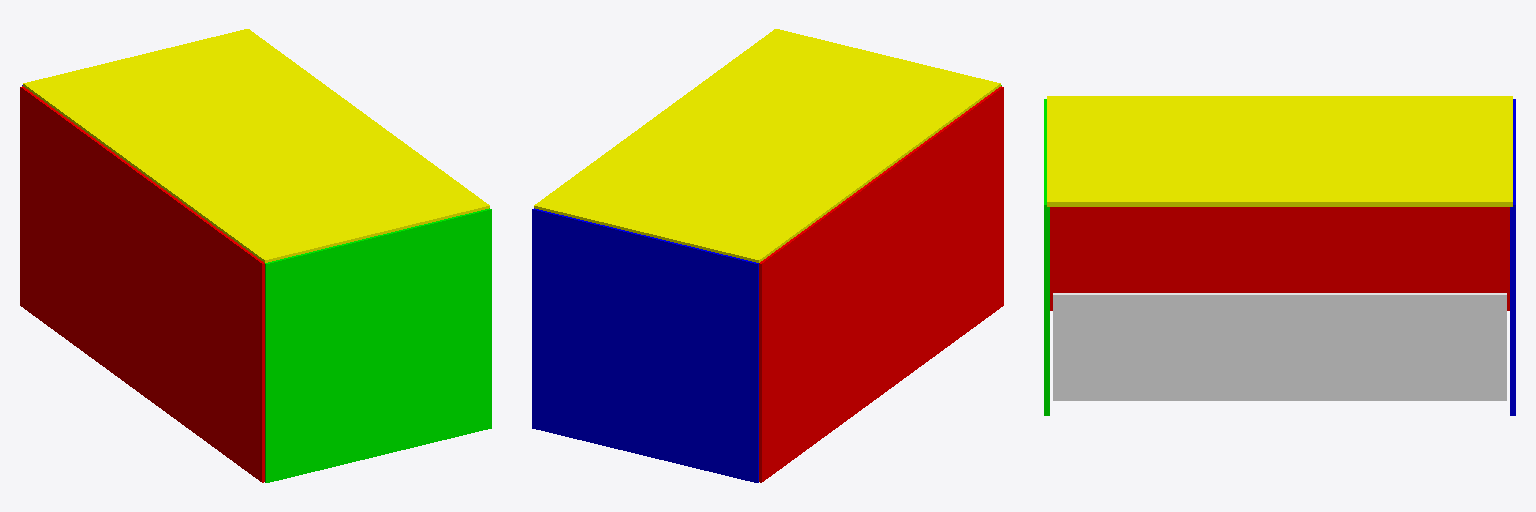
The robot description file, URDF, robot "goal":
<?xml version="1.0" ?>
<robot name="goal">
  <link name="base_link"/>
  <link name="board1">
    <visual>
      <geometry>
        <box size="0.43 0.8 0.01"/>
      </geometry>
      <material name="board_color1">
        <color rgba="1 1 0 1"/>
      </material>
    </visual>
    <collision>
      <geometry>
        <box size="0.43 0.8 0.01"/>
      </geometry>
    </collision>
    <inertial>
      <mass value="1.0"/>
      <origin xyz="0 0 0"/>
      <inertia ixx="0.1" ixy="0.0" ixz="0.0" iyy="0.1" iyz="0.0" izz="0.1"/>
    </inertial>
  </link>
  
  <link name="board2">
    <visual>
      <geometry>
        <box size="0.43 0.01 0.4"/>
      </geometry>
      <material name="board_color2">
        <color rgba="0 0 1 1"/>
      </material>
    </visual>
    <collision>
      <geometry>
        <box size="0.43 0.01 0.4"/>
      </geometry>
    </collision>
    <inertial>
      <mass value="1.0"/>
      <origin xyz="0 0 0"/>
      <inertia ixx="0.1" ixy="0.0" ixz="0.0" iyy="0.1" iyz="0.0" izz="0.1"/>
    </inertial>
  </link>
  
  <link name="board3">
    <visual>
      <geometry>
        <box size="0.43 0.01 0.4"/>
      </geometry>
      <material name="board_color3">
        <color rgba="0 1 0 1"/>
      </material>
    </visual>
    <collision>
      <geometry>
        <box size="0.43 0.01 0.4"/>
      </geometry>
    </collision>
    <inertial>
      <mass value="1.0"/>
      <origin xyz="0 0 0"/>
      <inertia ixx="0.1" ixy="0.0" ixz="0.0" iyy="0.1" iyz="0.0" izz="0.1"/>
    </inertial>
  </link>
  
  <link name="board4">
    <visual>
      <geometry>
        <box size="0.01 0.8 0.4"/>
      </geometry>
      <material name="board_color4">
        <color rgba="1 0 0 1"/>
      </material>
    </visual>
    <collision>
      <geometry>
        <box size="0.01 0.8 0.4"/>
      </geometry>
    </collision>
    <inertial>
      <mass value="1.0"/>
      <origin xyz="0 0 0"/>
      <inertia ixx="0.1" ixy="0.0" ixz="0.0" iyy="0.1" iyz="0.0" izz="0.1"/>
    </inertial>
  </link>

  <link name="goal_judge">
    <visual>
      <geometry>
        <box size="0.01 0.78 0.2"/>
      </geometry>
      <material name="goal_judge_color">
        <color rgba="1 1 1 0"/>
      </material>
    </visual>
    <collision>
      <geometry>
        <box size="0.03 0.78 0.2"/>
      </geometry>
    </collision>
    <inertial>
      <mass value="1.0"/>
      <origin xyz="0 0 0"/>
      <inertia ixx="0.1" ixy="0.0" ixz="0.0" iyy="0.1" iyz="0.0" izz="0.1"/>
    </inertial>
  </link>
  
  <!-- Joint definitions go here -->
  <joint name="joint0" type="fixed">
    <parent link="base_link"/>
    <child link="board1"/>
    <origin xyz="0 0 0.4"/>
    <axis xyz="0 0 1"/>
  </joint>

  <joint name="joint1" type="fixed">
    <parent link="board1"/>
    <child link="board2"/>
    <origin xyz="0 0.4 -0.2"/>
    <axis xyz="0 0 1"/>
  </joint>
  
  <joint name="joint2" type="fixed">
    <parent link="board1"/>
    <child link="board3"/>
    <origin xyz="0 -0.4 -0.2"/>
    <axis xyz="0 0 1"/>
  </joint>
  
  <joint name="joint3" type="fixed">
    <parent link="board1"/>
    <child link="board4"/>
    <origin xyz="-0.215 0 -0.2"/>
    <axis xyz="0 1 0"/>
  </joint>

  <joint name="joint4" type="fixed">
    <parent link="board1"/>
    <child link="goal_judge"/>
    <origin xyz="0.15 0 -0.3"/>
    <axis xyz="0 1 0"/>
  </joint>

  
</robot>

--- Facts derived from the render (not from the file) ---
The picture shows the robot from 3 angles, left to right: view 1: azimuth 30°, elevation 25°; view 2: azimuth 150°, elevation 25°; view 3: azimuth 270°, elevation 25°; orthographic projection.
Model goal with 6 links and 5 joints (5 fixed), rooted at base_link, posed every joint at zero.
Links seen in each view (by area): view 1: board1, board4, board3; view 2: board1, board4, board2; view 3: board1, goal_judge, board4, board2, board3.
Link boxes in pixels (box(x1,y1,x2,y2)): board1: box(23, 29, 489, 262); board4: box(20, 86, 264, 482); board3: box(265, 208, 491, 482); board1: box(534, 29, 1000, 262); board4: box(759, 86, 1003, 482); board2: box(532, 208, 758, 482); board1: box(1047, 96, 1512, 206); goal_judge: box(1053, 293, 1506, 400); board4: box(1050, 207, 1509, 310); board2: box(1510, 99, 1515, 415); board3: box(1044, 99, 1049, 415).
Size in the robot's own frame: 0.435 by 0.81 by 0.405 metres.
Geometry: primitives only (box / cylinder / sphere), no mesh files.